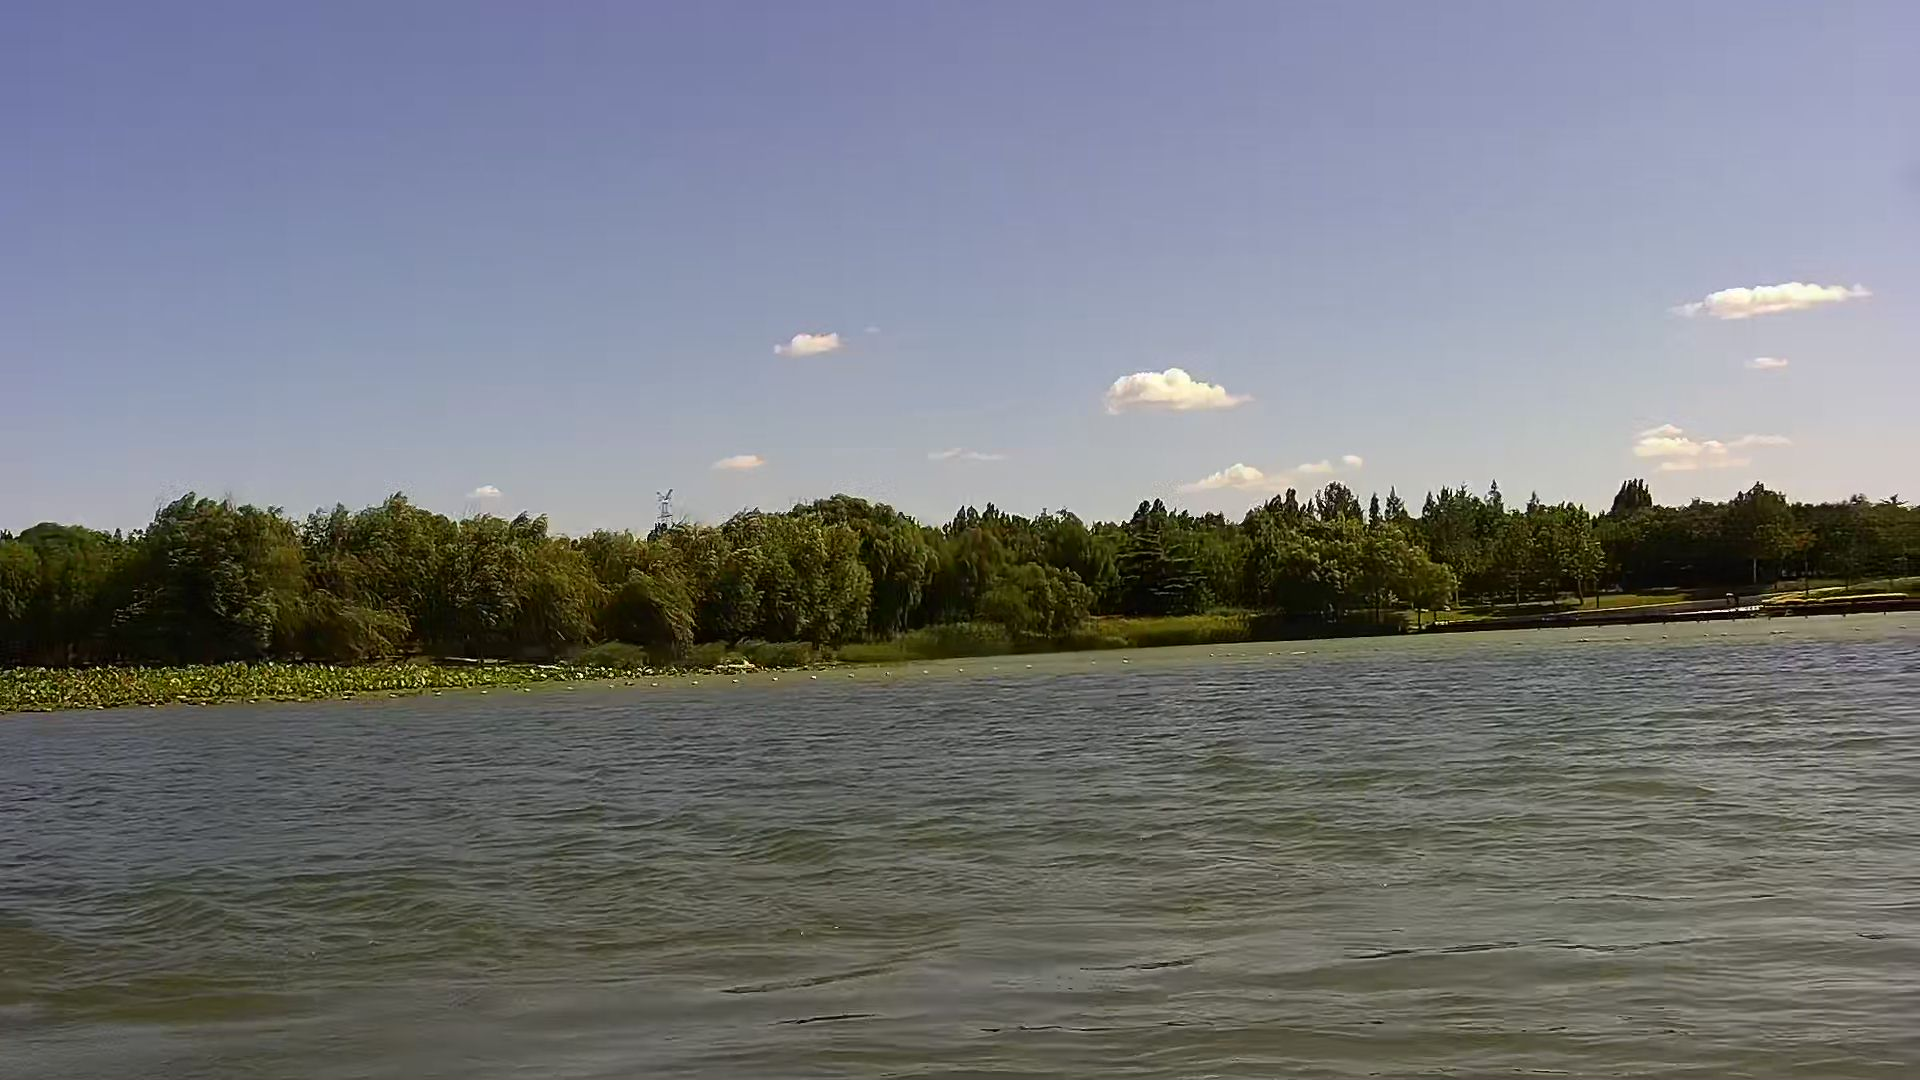grass: (3, 658, 742, 711)
